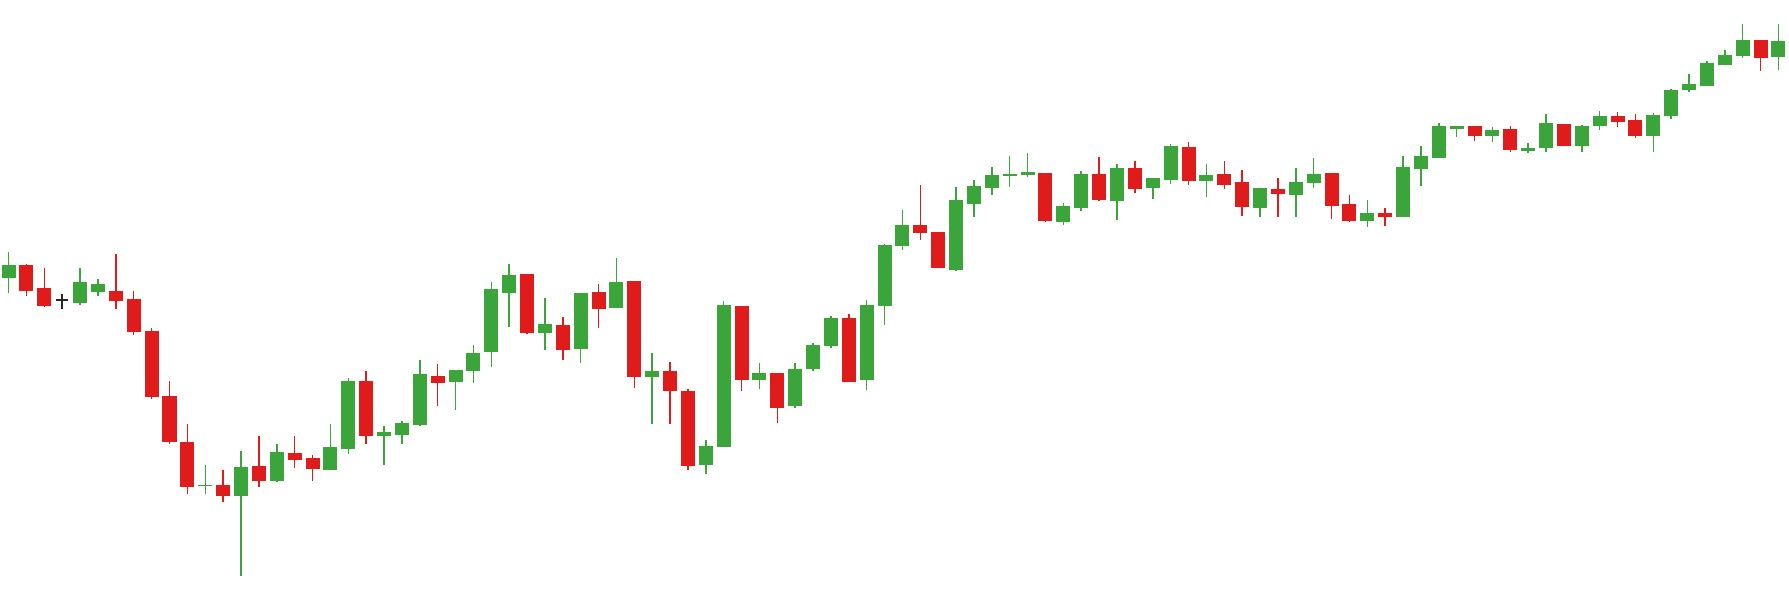sell: (500, 258, 645, 338)
